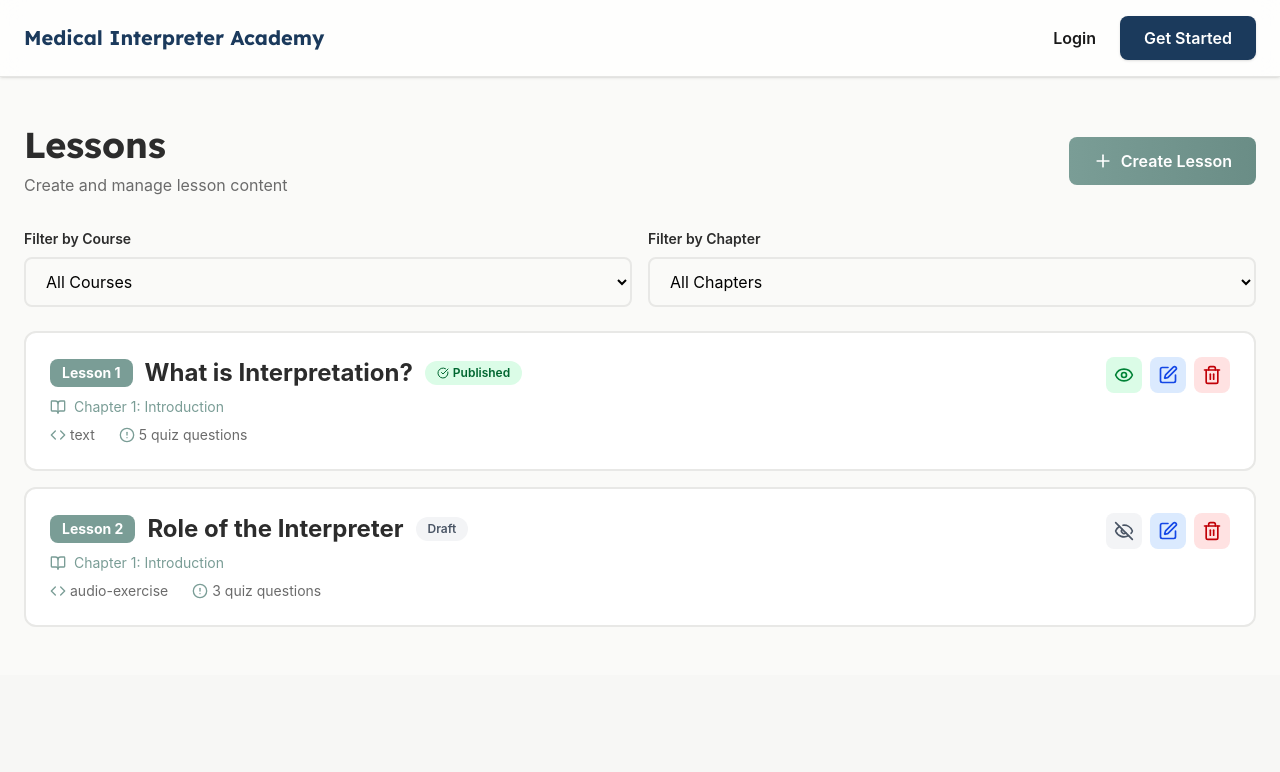
AdminLessons Page › Create Lesson Modal › should display all form fields
Click the button "Create Lesson": (1162, 161) [1069,137,1256,185]
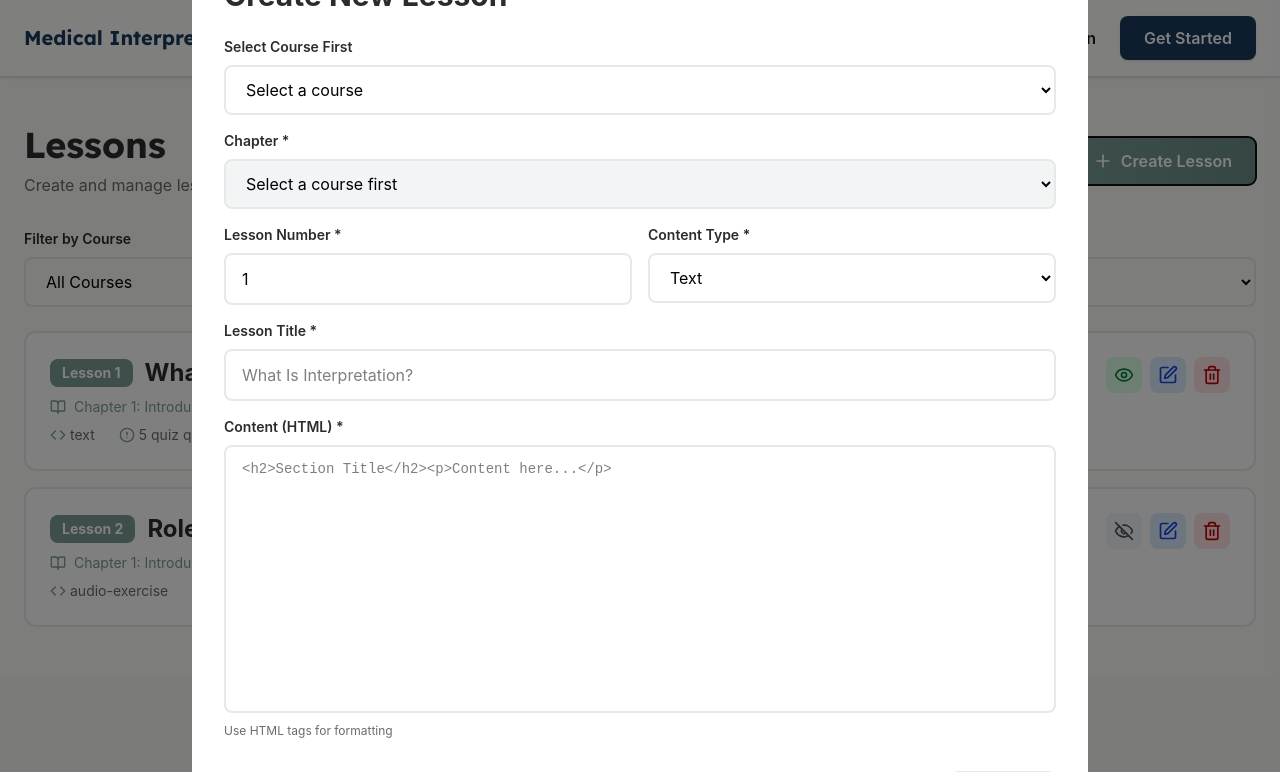
Check: the text "Select Course First" is shown, box [224,38,352,55]
Check: the text "Chapter *" is shown, box [224,132,289,149]
Check: the text "Lesson Number *" is shown, box [224,226,342,243]
